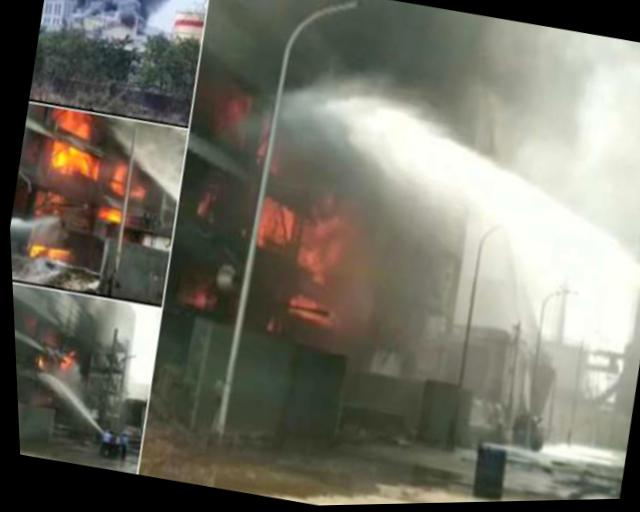fire: (285, 197, 343, 289), (41, 137, 89, 180), (46, 106, 97, 139), (282, 290, 325, 326), (102, 157, 134, 203), (97, 205, 123, 228), (56, 354, 73, 373)
smoke: (352, 0, 639, 141), (324, 219, 469, 367), (459, 97, 639, 194), (197, 0, 364, 74), (69, 294, 126, 358), (43, 0, 161, 27), (151, 0, 195, 10)
